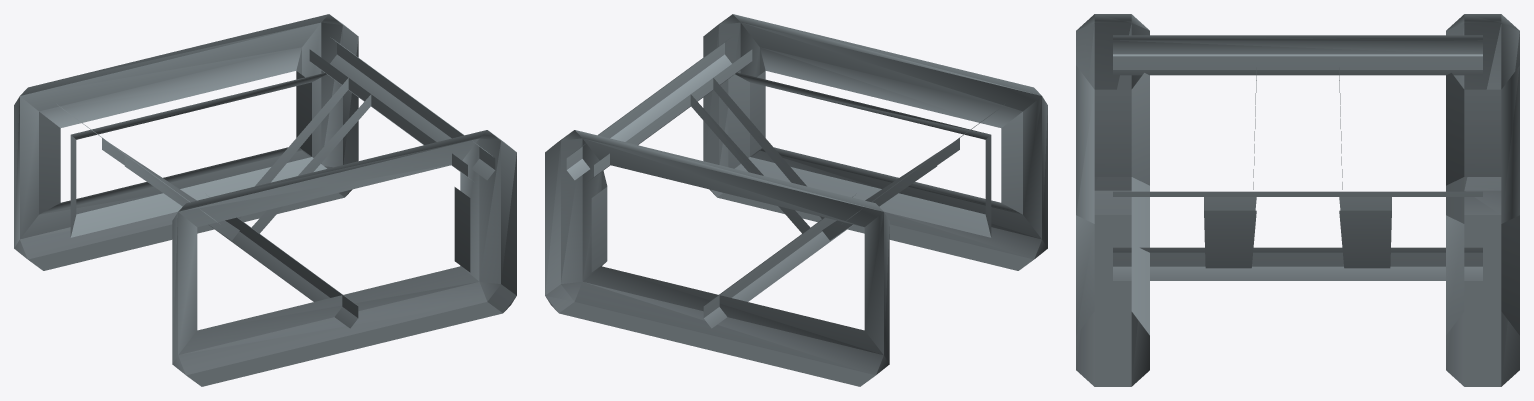
Rendered from dishrack_flat.glb.
3 views of the same model, side by side, from view 1: azimuth 30°, elevation 25°; view 2: azimuth 150°, elevation 25°; view 3: azimuth 270°, elevation 25° (orthographic). The views are drawn at different scales.
Visible parts, largest first — view 1: dishrack; view 2: dishrack; view 3: dishrack.
Part boxes in pixels (<box>): dishrack: <box>14,14,516,386</box>; dishrack: <box>545,14,1047,386</box>; dishrack: <box>1076,14,1519,386</box>.
Size of the model in its own units: 1.2 by 0.6 by 1.2.
Materials: 1 (1 with a texture image).
